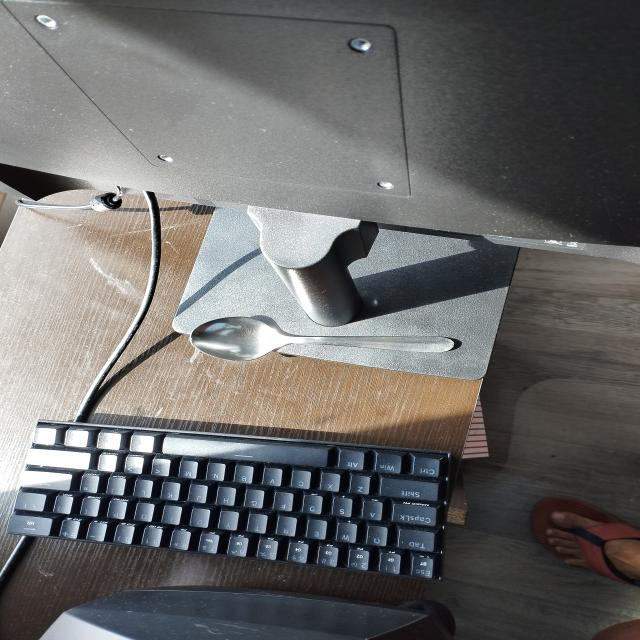Spoon: (180, 308, 471, 368)
